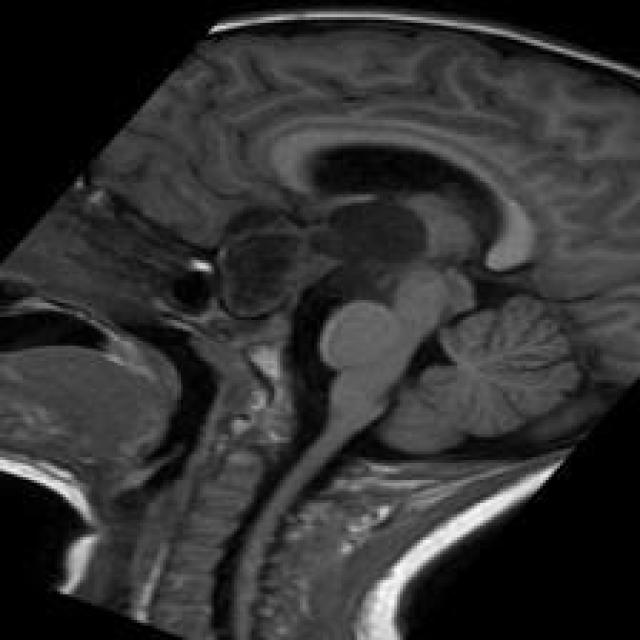no_tumor: (20, 5, 640, 640)
